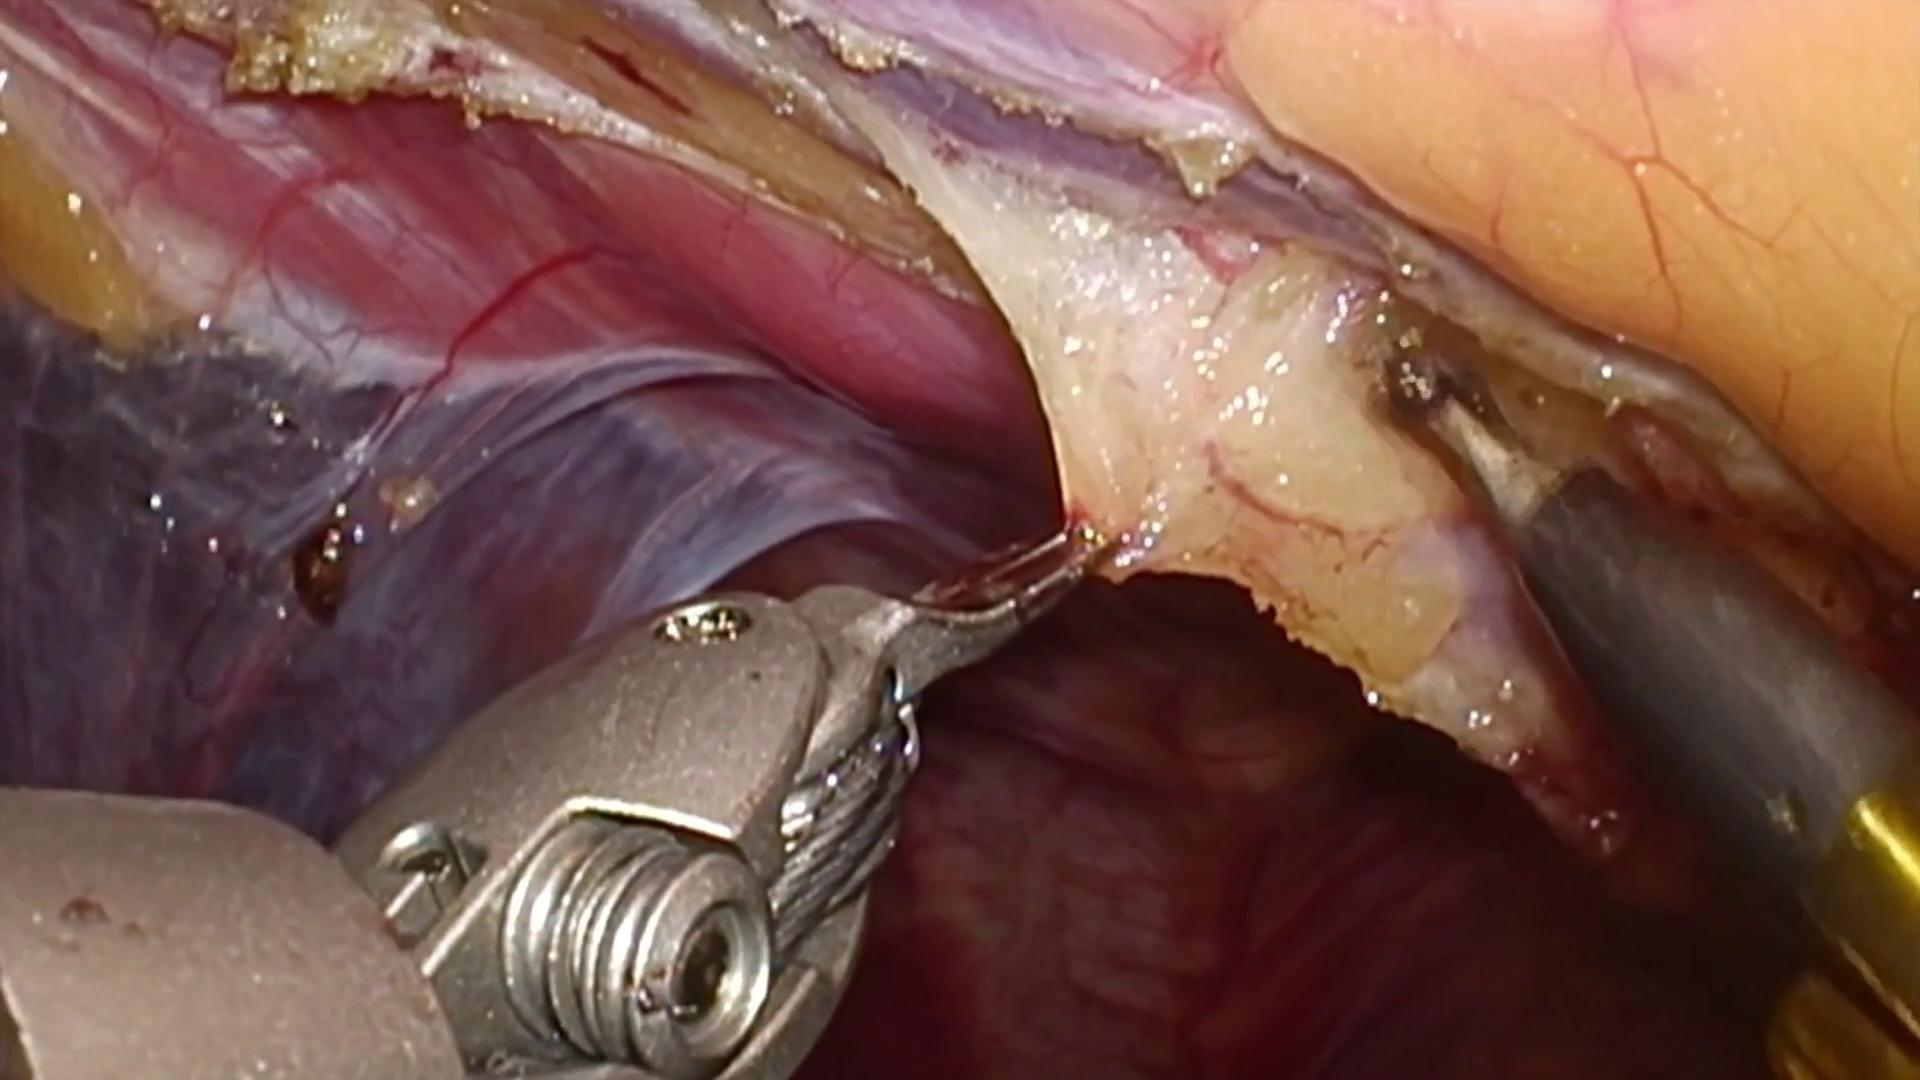Cautery_Spatula: (1389, 355, 1920, 897)
Debakey: (798, 526, 1112, 742)
